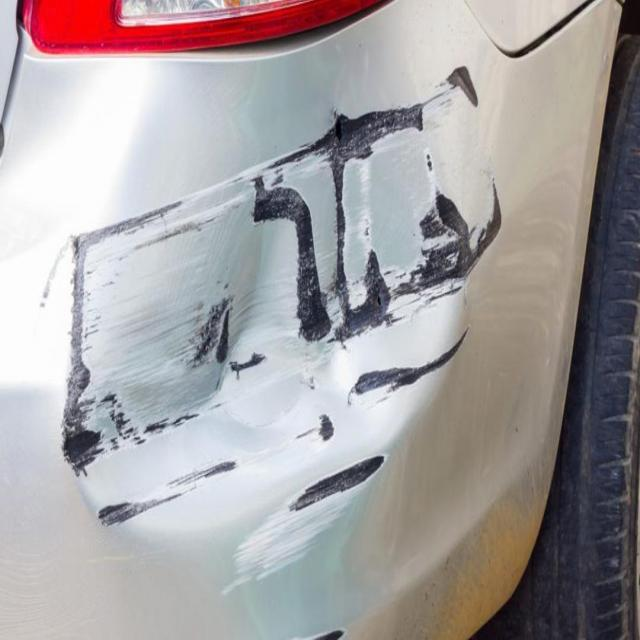dent: (41, 50, 496, 616)
